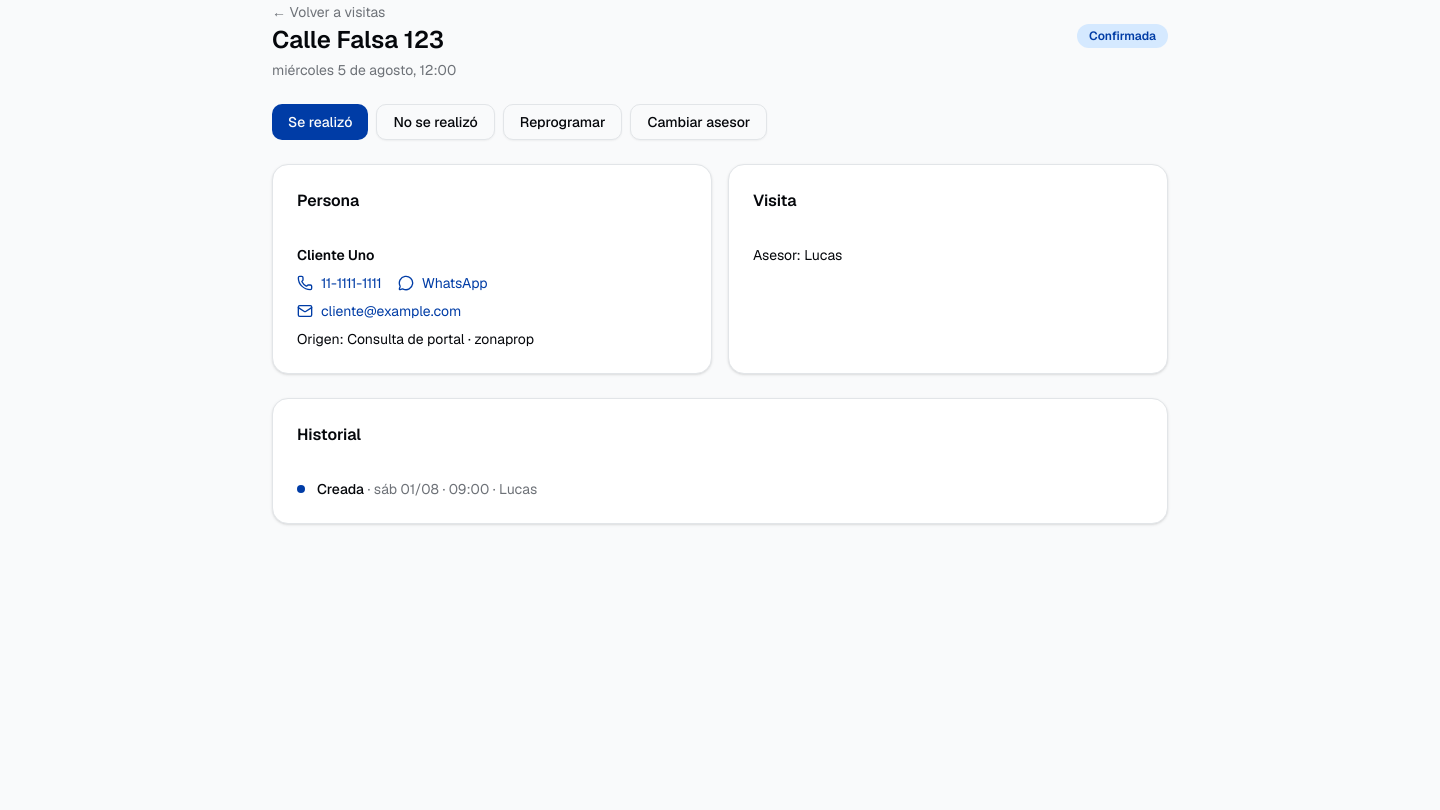
VisitDetailPage — cambiar de asesor › sin asesores activos (fuera de la persona que ya la tiene) avisa en vez de mostrar una lista vacía
Click the button "Cambiar asesor": (699, 122) [630,104,767,140]
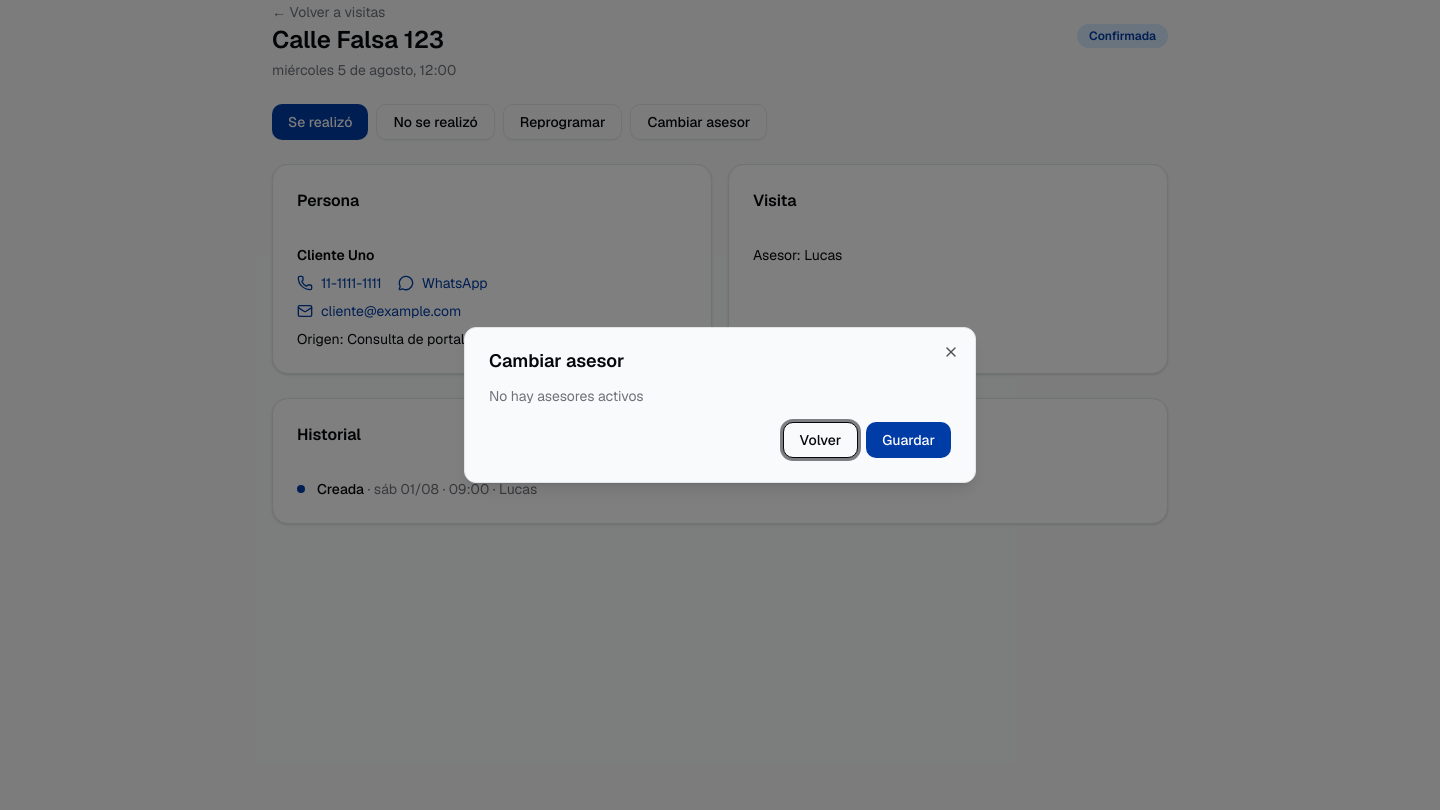
Check: the text "No hay asesores activos" is shown, box [489,387,644,405]
